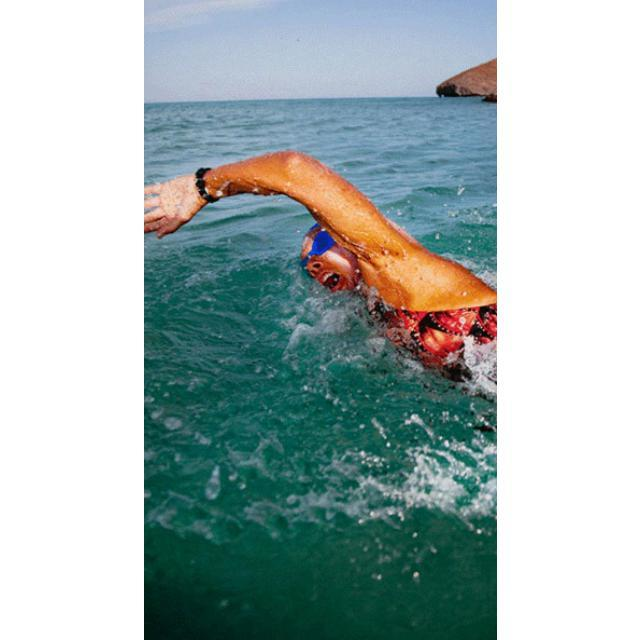human: (144, 137, 496, 433)
